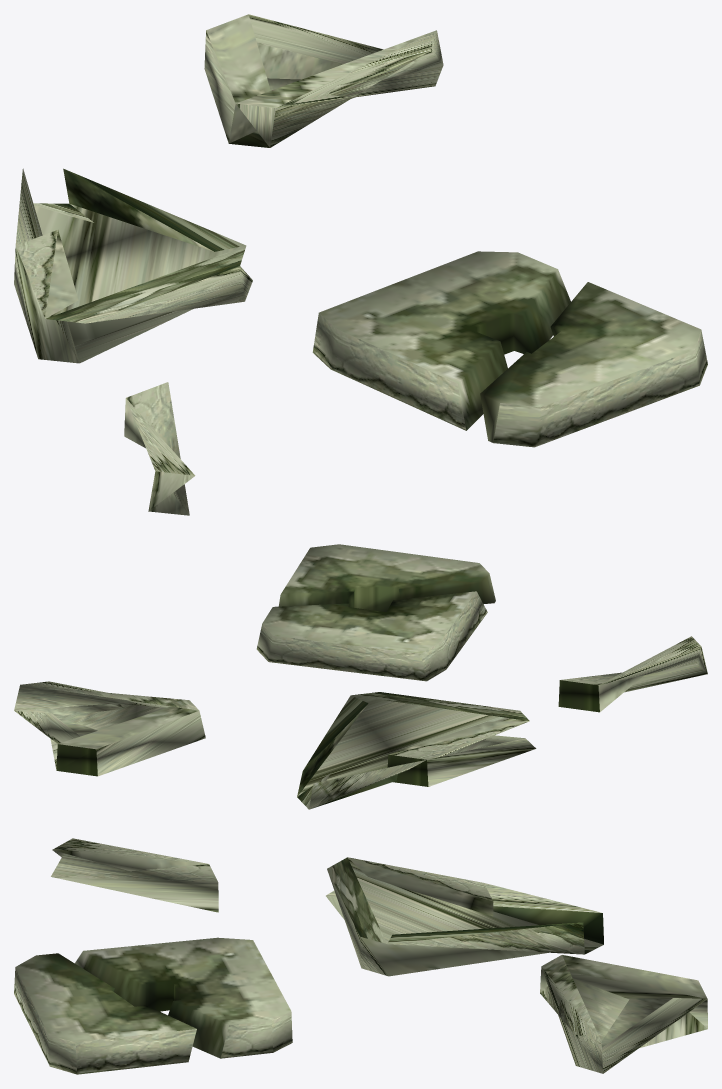
File: stst9.dae
The picture shows the model from 3 angles, top to bottom: view 1: azimuth 30°, elevation 25°; view 2: azimuth 150°, elevation 25°; view 3: azimuth 270°, elevation 25°; orthographic projection. The views are drawn at different scales.
Visible parts, largest first — view 1: torch4, torch3, torch1, torch5, torch2; view 2: torch4, torch3, torch1, torch2, torch5; view 3: torch4, torch3, torch1, torch5, torch2.
Part boxes in pixels (x1=…): torch4: x1=312, y1=251, x2=707, y2=447; torch3: x1=14, y1=168, x2=252, y2=363; torch1: x1=228, y1=14, x2=443, y2=147; torch5: x1=124, y1=382, x2=195, y2=515; torch2: x1=204, y1=14, x2=270, y2=142; torch4: x1=256, y1=544, x2=495, y2=681; torch3: x1=297, y1=692, x2=536, y2=809; torch1: x1=14, y1=681, x2=198, y2=776; torch2: x1=58, y1=706, x2=205, y2=776; torch5: x1=558, y1=636, x2=707, y2=712; torch4: x1=14, y1=937, x2=292, y2=1074; torch3: x1=326, y1=857, x2=603, y2=976; torch1: x1=540, y1=955, x2=707, y2=1073; torch5: x1=51, y1=838, x2=218, y2=912; torch2: x1=562, y1=955, x2=707, y2=1028.
Bounding box in the file's own units: 2.81 × 3.4 × 0.3619.
1 material, 1 textured.
